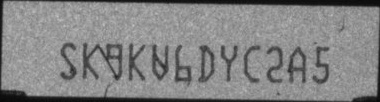2: (266, 44, 283, 82)
5: (311, 46, 330, 83)
6: (173, 43, 190, 82)
9: (106, 41, 124, 80)
A: (288, 46, 307, 83)
C: (244, 44, 260, 83)
D: (198, 45, 214, 82)
K: (82, 41, 101, 80), (128, 43, 146, 81)
S: (59, 41, 76, 80)
V: (150, 42, 169, 81)
Y: (220, 44, 238, 82)
